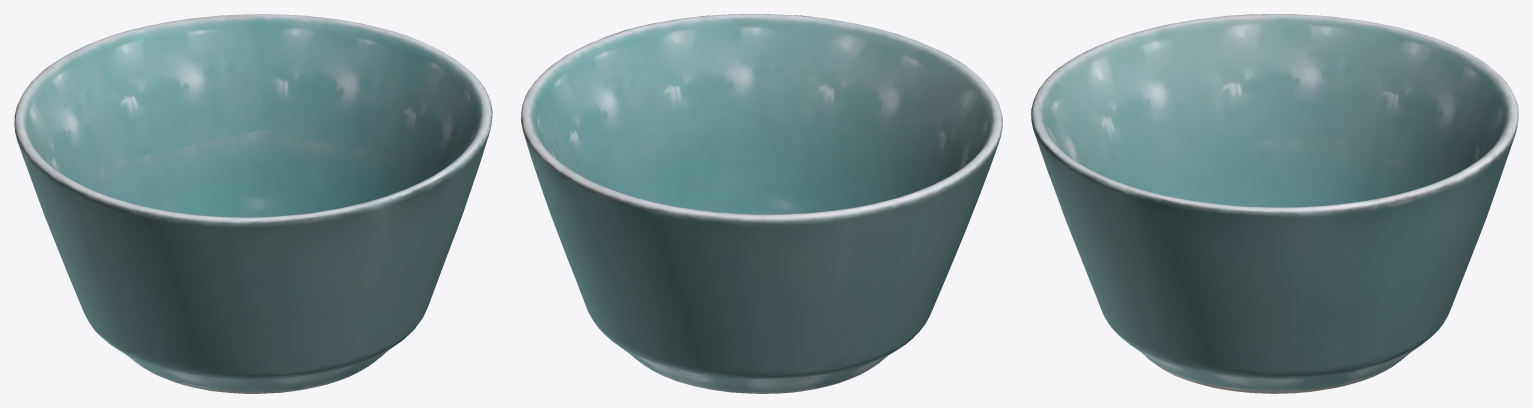
File: Room_Essentials_Bowl_Turquiose.glb
3 renders of one model, left to right at view 1: azimuth 30°, elevation 25°; view 2: azimuth 150°, elevation 25°; view 3: azimuth 270°, elevation 25°, orthographic.
Visible parts, largest first — view 1: model.obj; view 2: model.obj; view 3: model.obj.
Boxes of the visible parts, x1,y1,x2,y2 form: model.obj: (14, 14, 492, 393); model.obj: (521, 14, 1002, 393); model.obj: (1031, 14, 1518, 393).
Bounding box in the file's own units: 0.9979 × 0.5252 × 1.
Materials: 1 (1 with a texture image).
